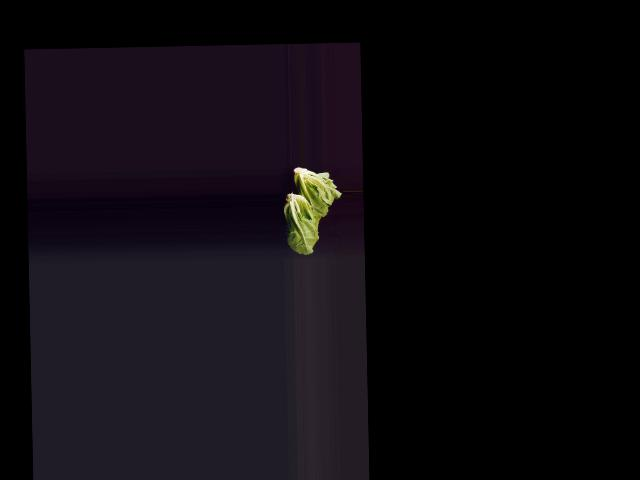lettuce: (286, 166, 341, 228)
